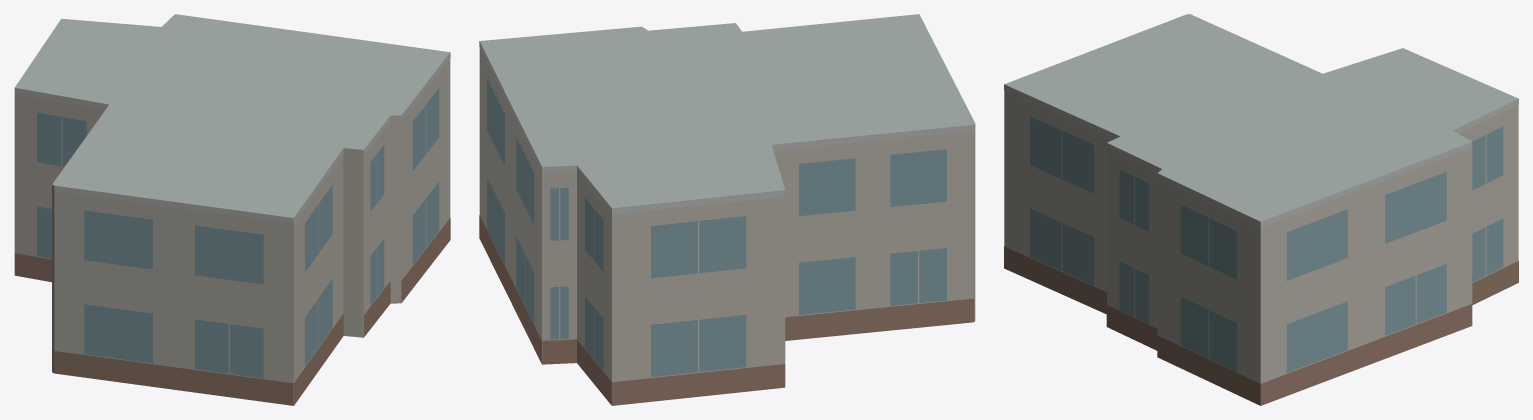
The model's file is survey-upis-32968854.glb.
The picture shows the model from 3 angles, left to right: view 1: azimuth 30°, elevation 25°; view 2: azimuth 150°, elevation 25°; view 3: azimuth 270°, elevation 25°; orthographic projection. The views are drawn at different scales.
Visible parts, largest first — view 1: survey-upis-32968854.tmp; view 2: survey-upis-32968854.tmp; view 3: survey-upis-32968854.tmp.
Part boxes in pixels (x1,y1,x2,y2): survey-upis-32968854.tmp: (14,14,450,405); survey-upis-32968854.tmp: (479,14,975,405); survey-upis-32968854.tmp: (1004,14,1518,405).
Size of the model in its own units: 18.4 by 7.6 by 19.26.
